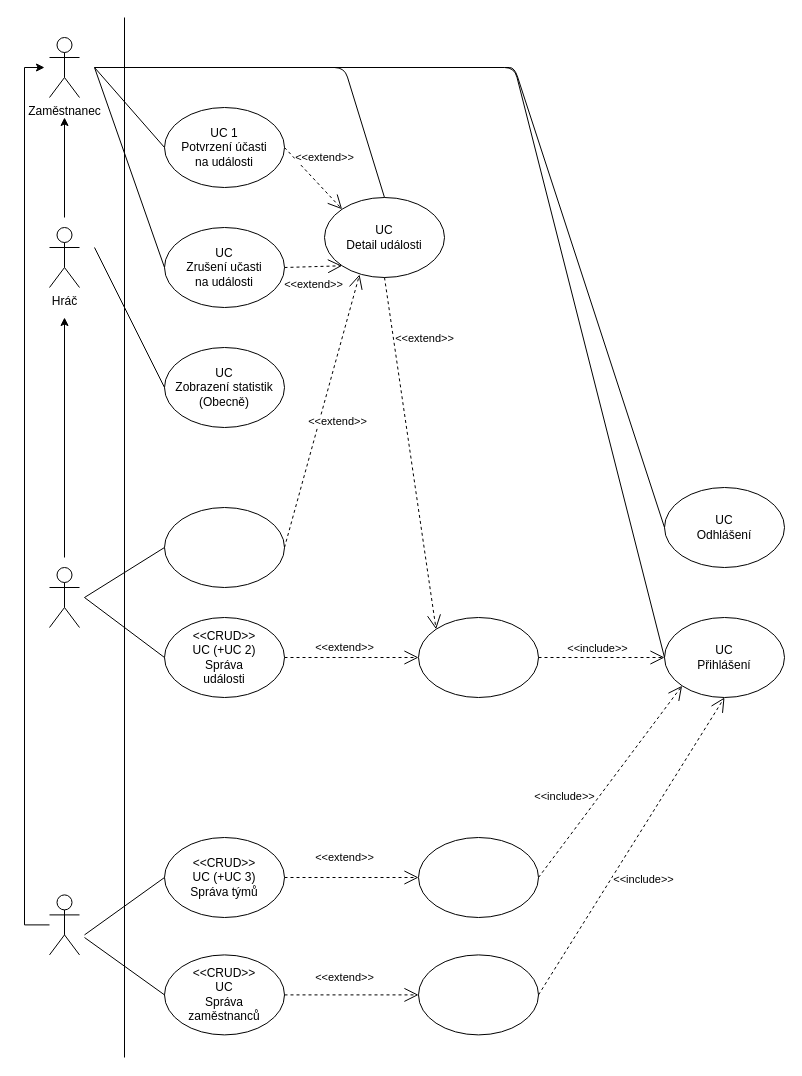
Some shapes in this 802 by 1076 pixel diagram are drawn without their labels. The centre of each missing label's shape, as x and y in pixels:
"Manažer" goes at point (64, 924).
"Trenér" goes at point (64, 597).
"UC Seznam týmů" goes at point (478, 877).
"UC Seznam událostí" goes at point (478, 657).
"UC Seznam zaměstnaců" goes at point (478, 994).
"UC Zadání výsledků události" goes at point (224, 547).
